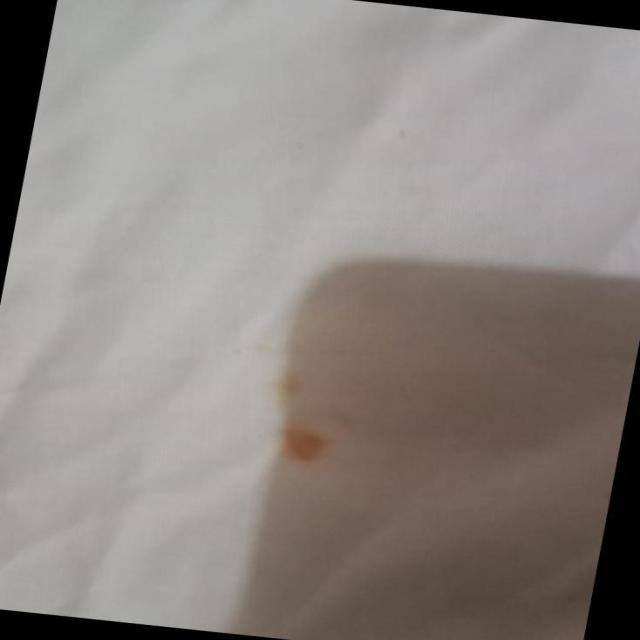stain: (232, 353, 357, 474)
